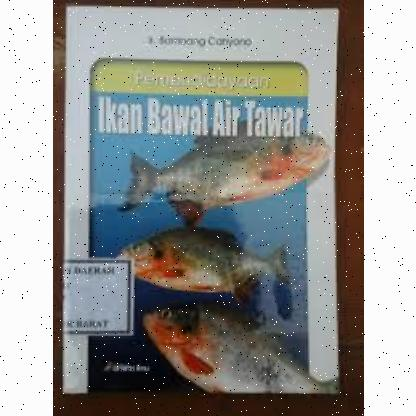ikan-pacu: (124, 120, 328, 216), (135, 299, 337, 391), (115, 224, 286, 294)
